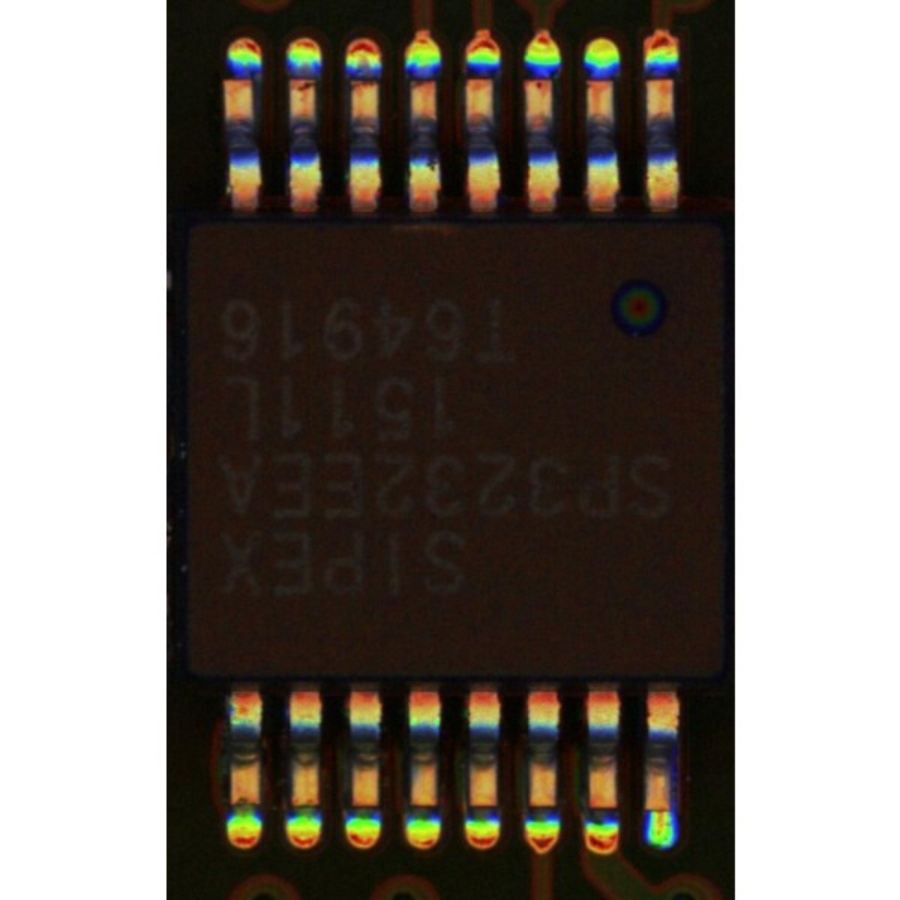Bad_podu: (651, 798, 667, 826)
